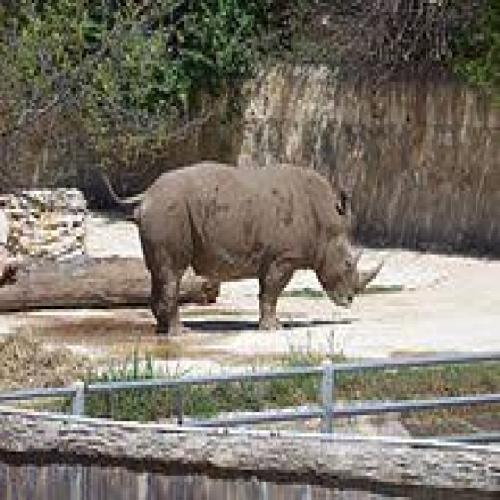rhino-endangered: (95, 161, 386, 338)
